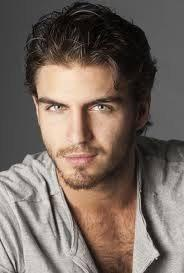Sober: (37, 60, 126, 183)
